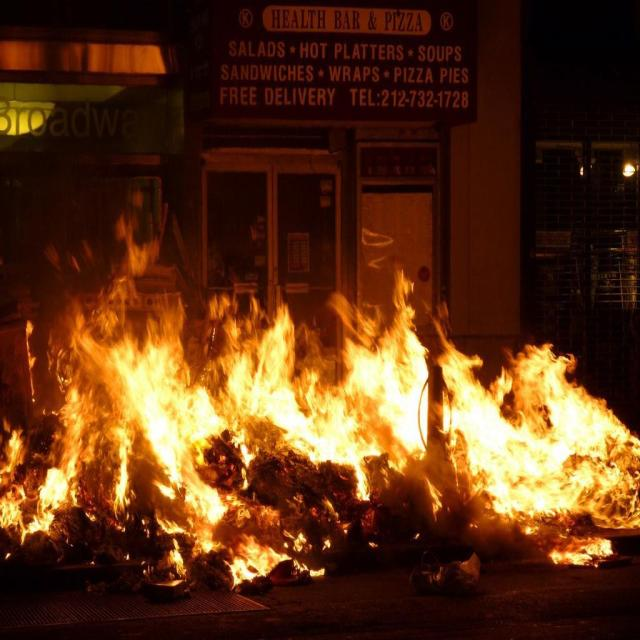fire: (18, 202, 636, 592)
